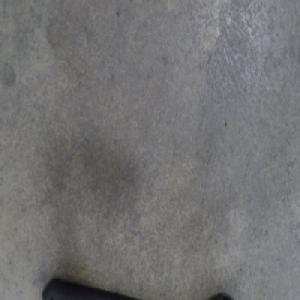AdjustableWrench: (42, 275, 172, 300)
